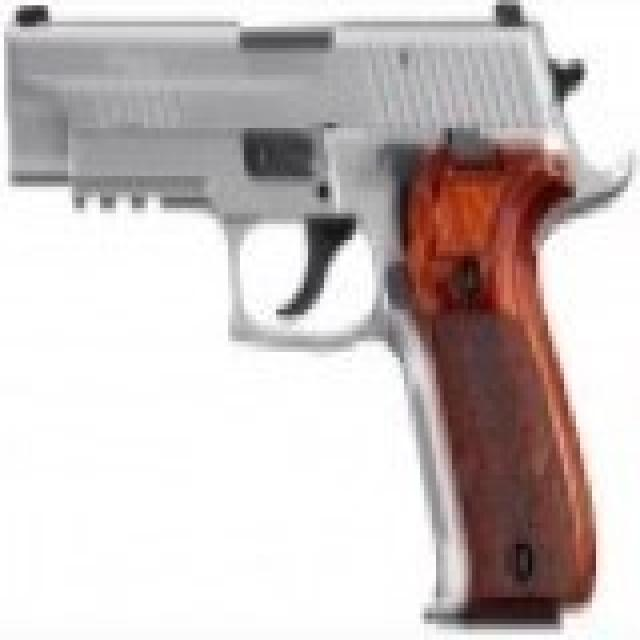Gun: (7, 13, 609, 606)
